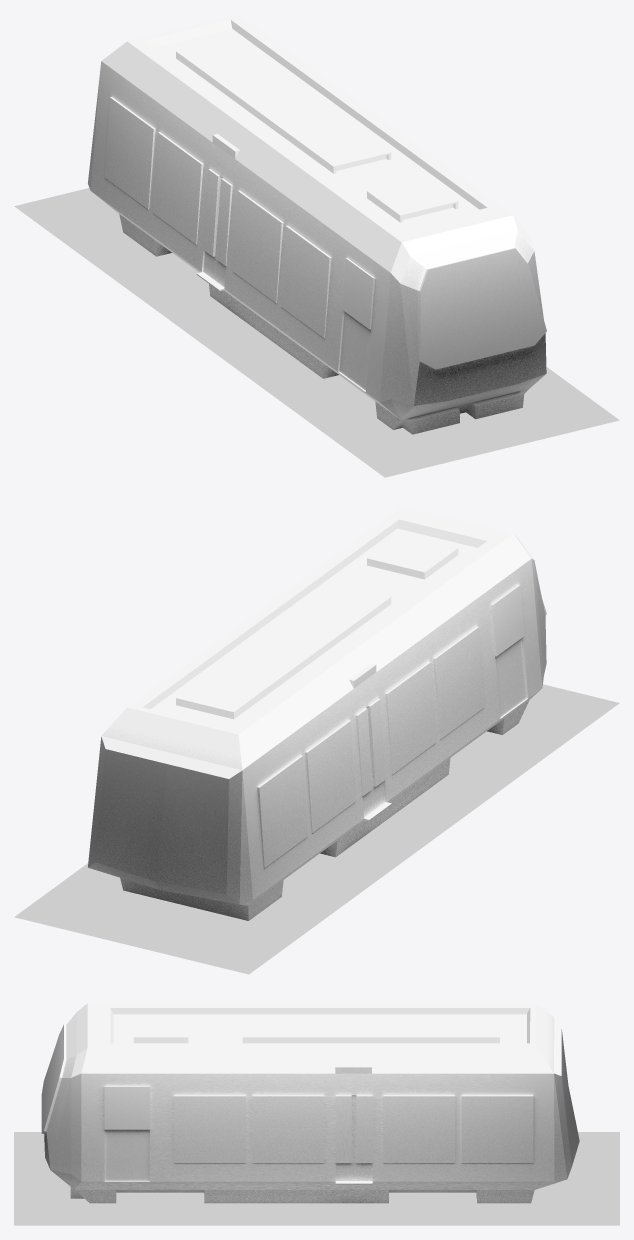
Rendered from train.glb.
The picture shows the model from 3 angles, top to bottom: view 1: azimuth 30°, elevation 25°; view 2: azimuth 150°, elevation 25°; view 3: azimuth 270°, elevation 25°; orthographic projection. The views are drawn at different scales.
Parts seen in each view (by area): view 1: Entity, Plane; view 2: Entity, Plane; view 3: Entity, Plane.
Part boxes in pixels (x1,y1,x2,y2): Entity: (88,14,546,434); Plane: (14,188,619,477); Entity: (88,506,546,920); Plane: (14,684,619,974); Entity: (41,1003,579,1203); Plane: (14,1132,619,1225).
Bounding box in the file's own units: 2.89 × 2.2 × 7.9.
Materials: 1 (1 with a texture image).
